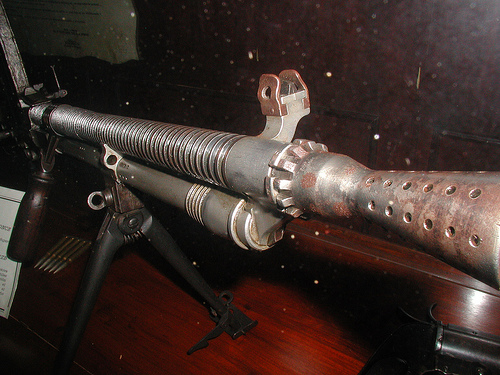rifle: (22, 61, 495, 332)
